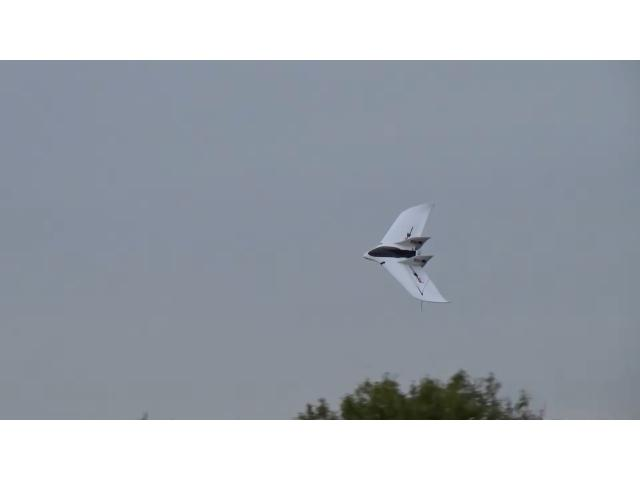Anti-Drone: (364, 205, 450, 303)
